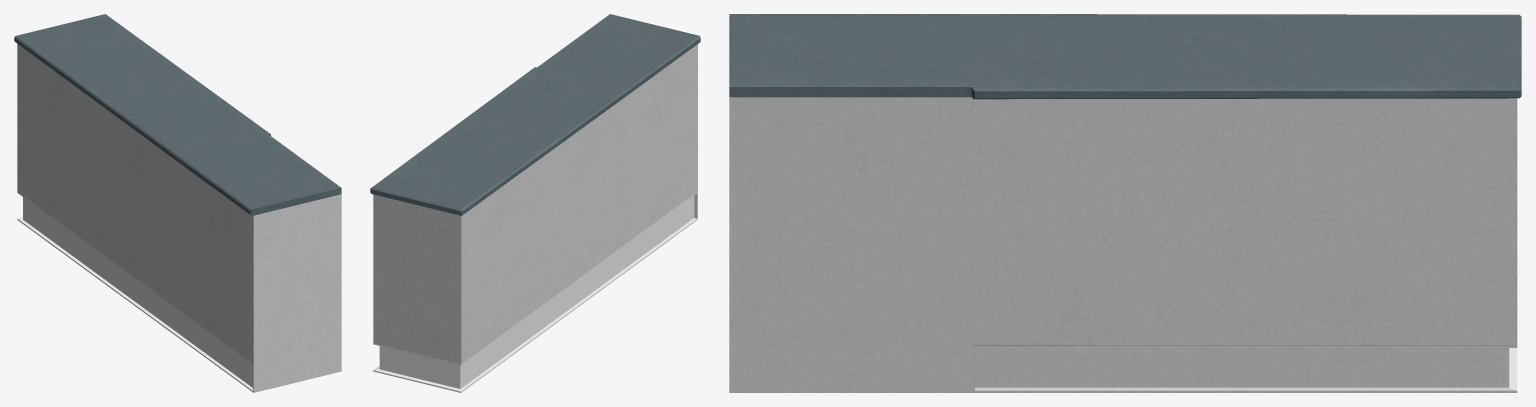
File: encimera3.dae
3 renders of one model, left to right at view 1: azimuth 30°, elevation 25°; view 2: azimuth 150°, elevation 25°; view 3: azimuth 270°, elevation 25°, orthographic. The views are drawn at different scales.
Parts seen in each view (by area): view 1: Cubo; view 2: Cubo; view 3: Cubo.
Boxes of the visible parts, x1=… form: Cubo: x1=14, y1=14, x2=341, y2=392; Cubo: x1=370, y1=14, x2=700, y2=392; Cubo: x1=729, y1=14, x2=1521, y2=392.
Size of the model in its own units: 0.4816 by 2.11 by 0.9.
